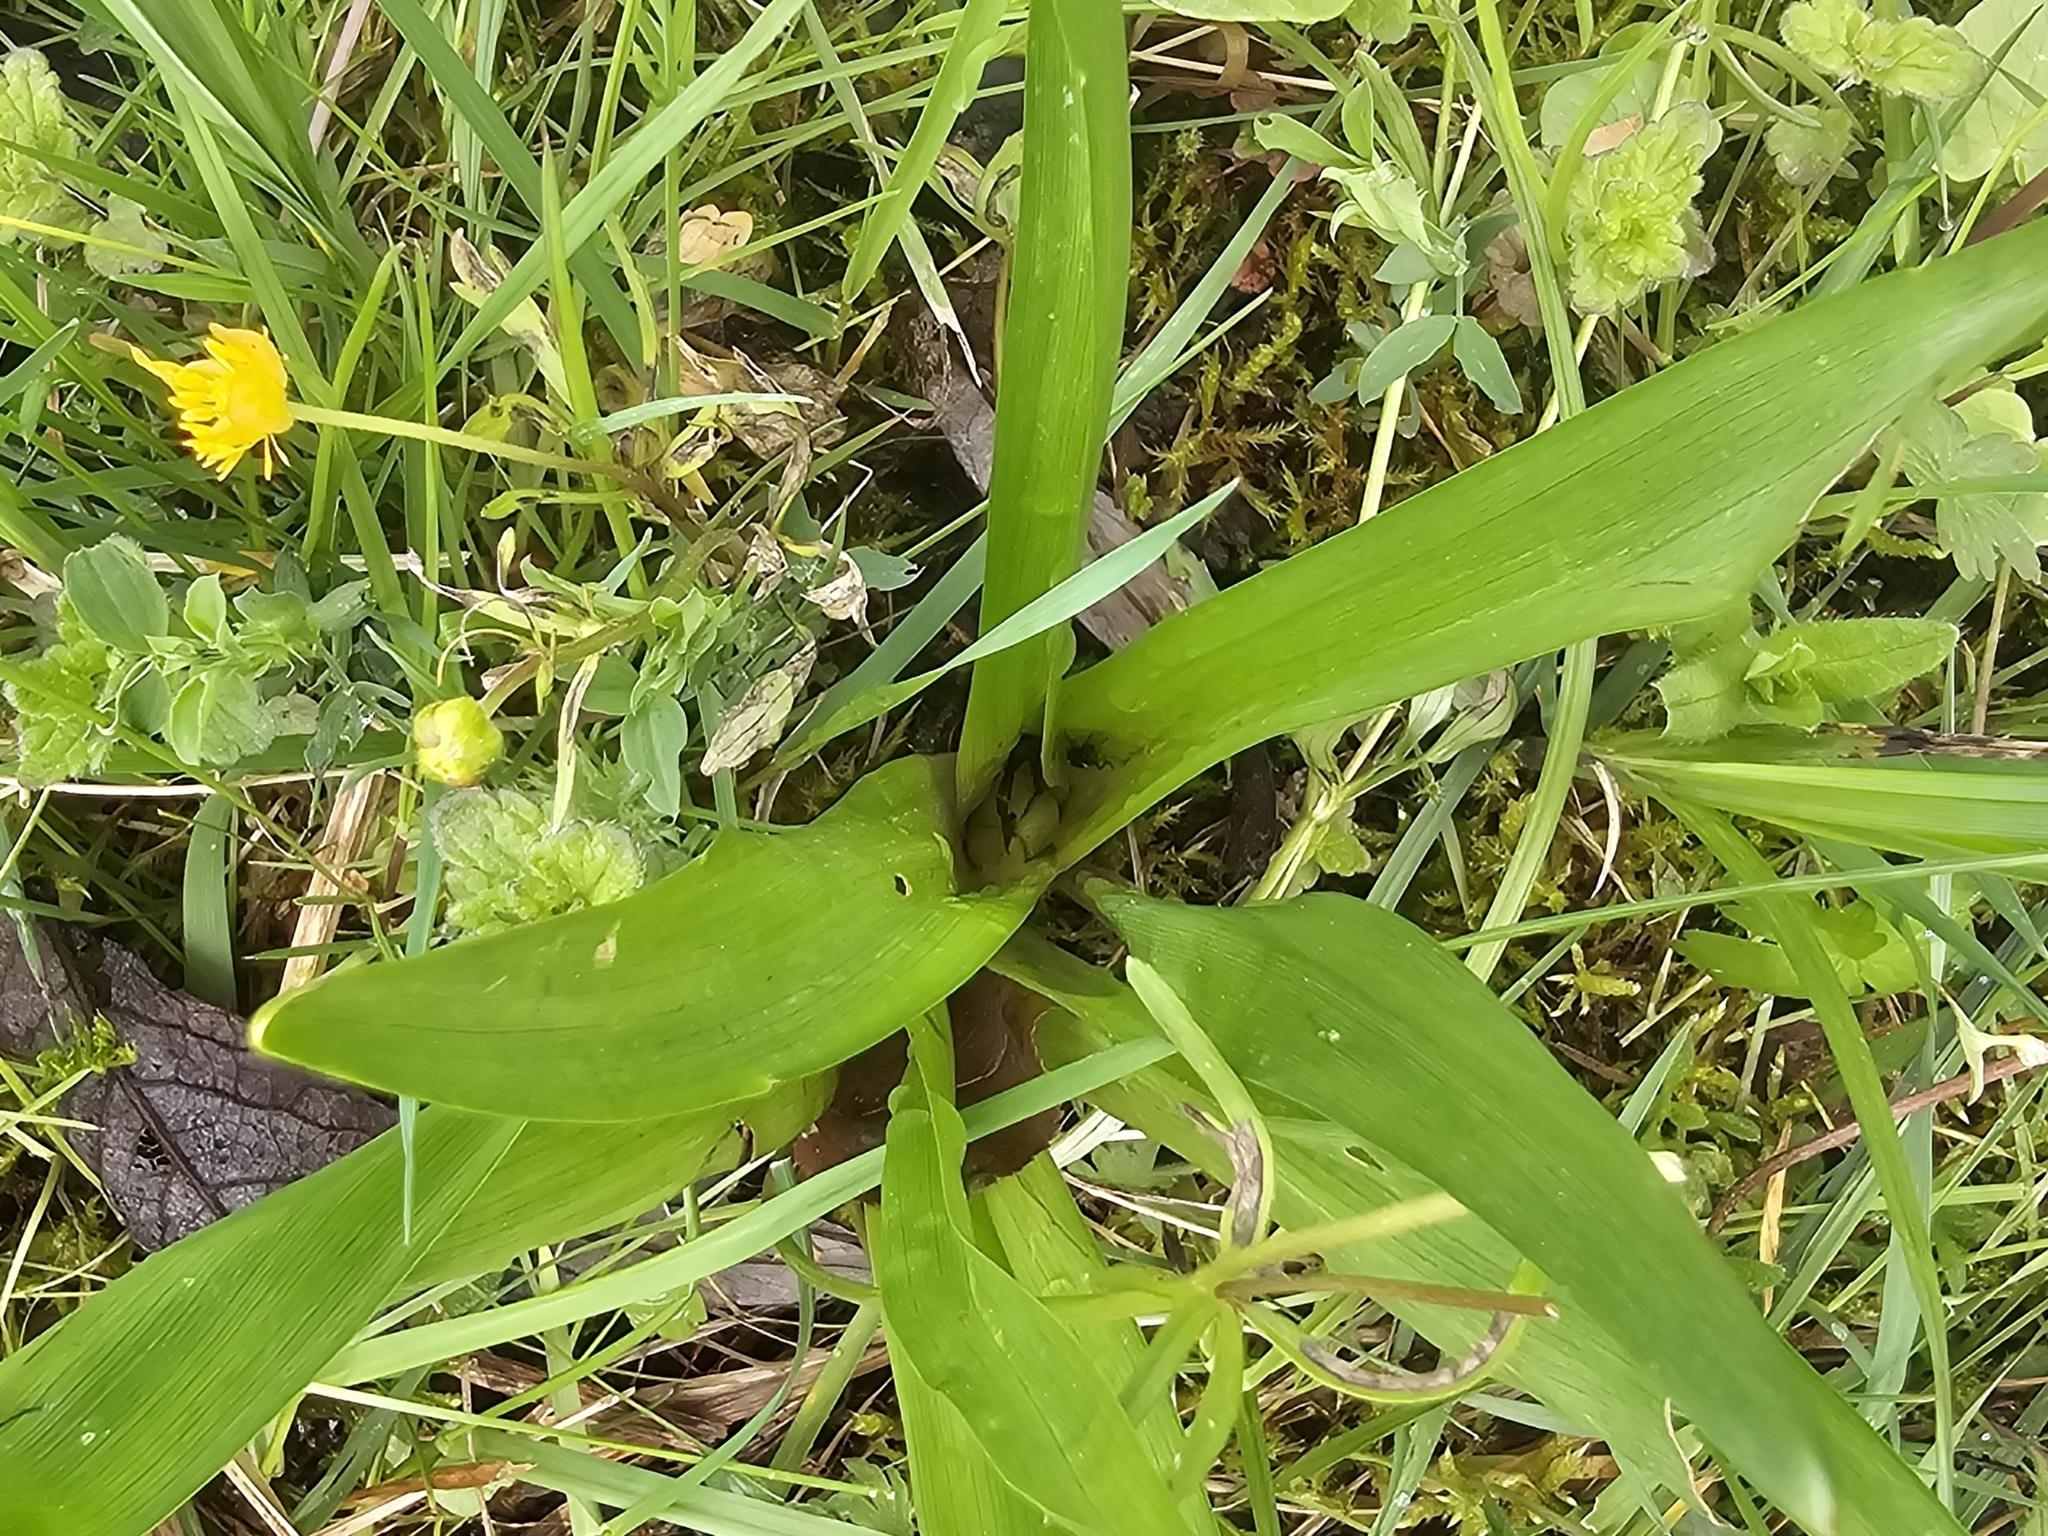Colchicum autumnale L: (356, 111, 1956, 1449)
